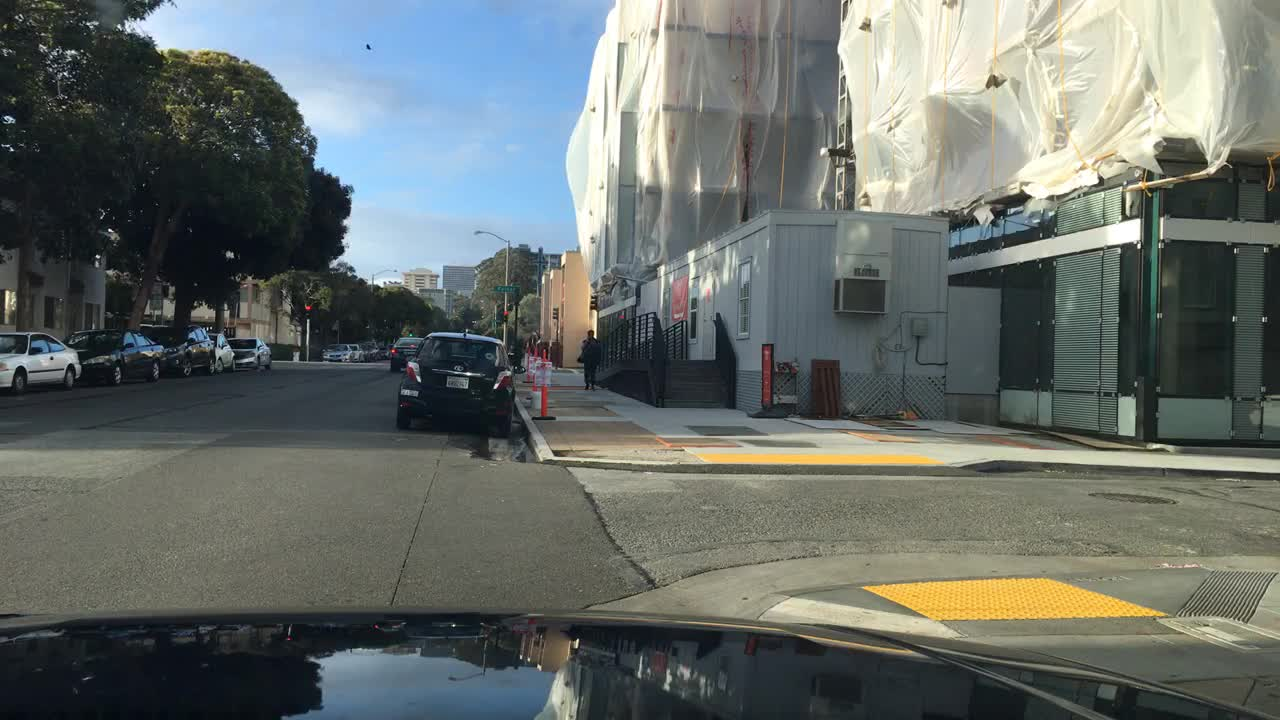car: (393, 327, 513, 435), (64, 329, 163, 388), (0, 329, 81, 396), (155, 327, 214, 379), (228, 334, 271, 374), (206, 334, 233, 381), (388, 339, 423, 374), (320, 344, 354, 362), (378, 340, 390, 359), (351, 340, 361, 361), (359, 344, 369, 361), (368, 342, 376, 361)
person: (573, 327, 602, 391), (504, 345, 523, 377), (526, 329, 535, 356)
traffic light: (499, 307, 508, 327), (302, 298, 310, 320), (550, 307, 557, 323), (406, 322, 411, 337)
traffic sign: (492, 285, 516, 295)
